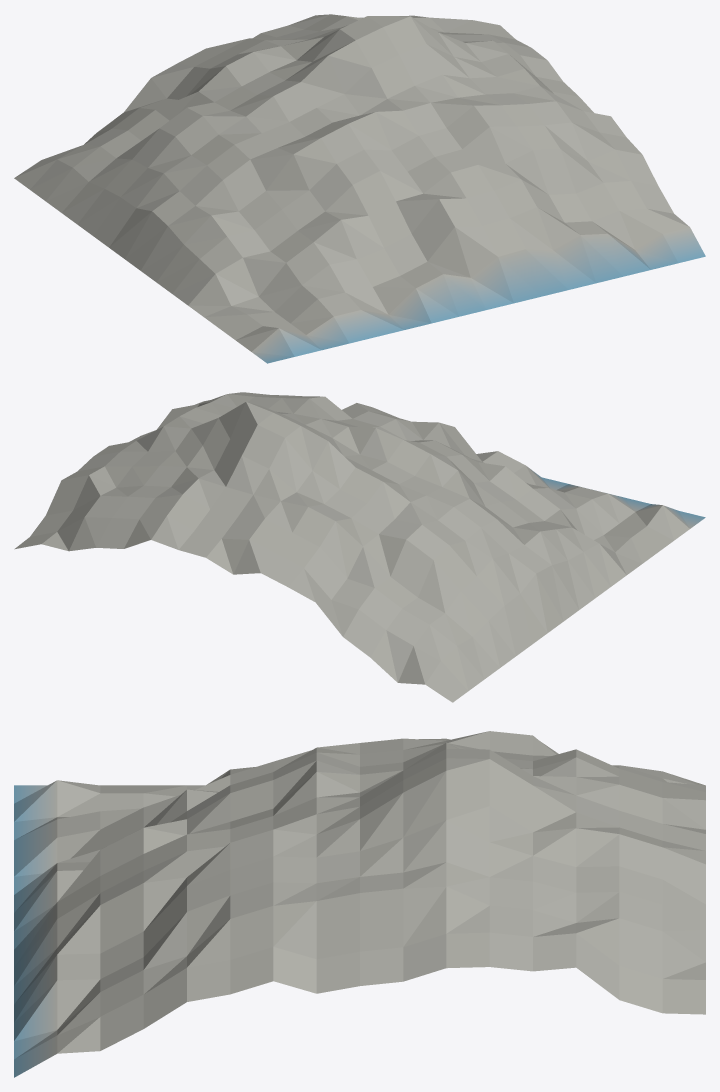
3 views of the same model, one above another, from view 1: azimuth 30°, elevation 25°; view 2: azimuth 150°, elevation 25°; view 3: azimuth 270°, elevation 25° (orthographic). The views are drawn at different scales.
Size of the model in its own units: 32 by 11.01 by 32.
